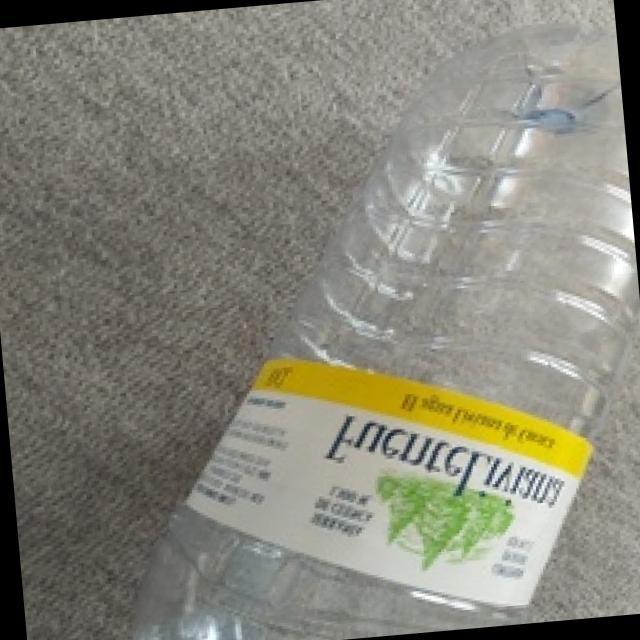good: (69, 3, 640, 640)
